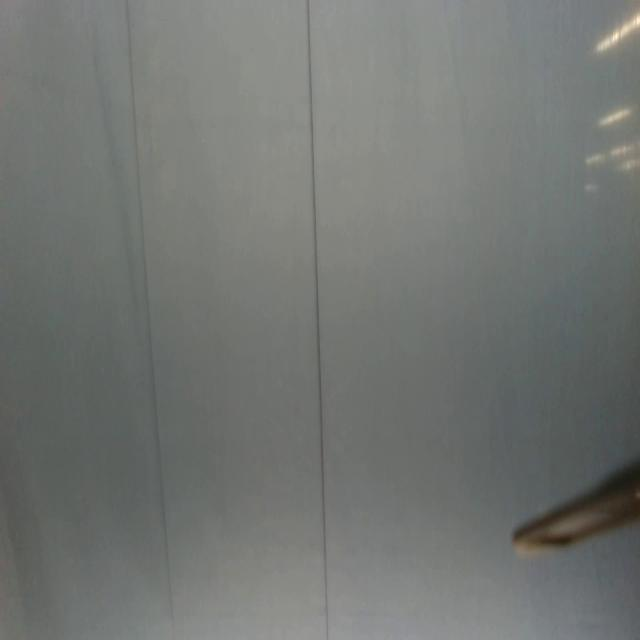crease: (126, 2, 175, 635), (305, 0, 332, 636)
